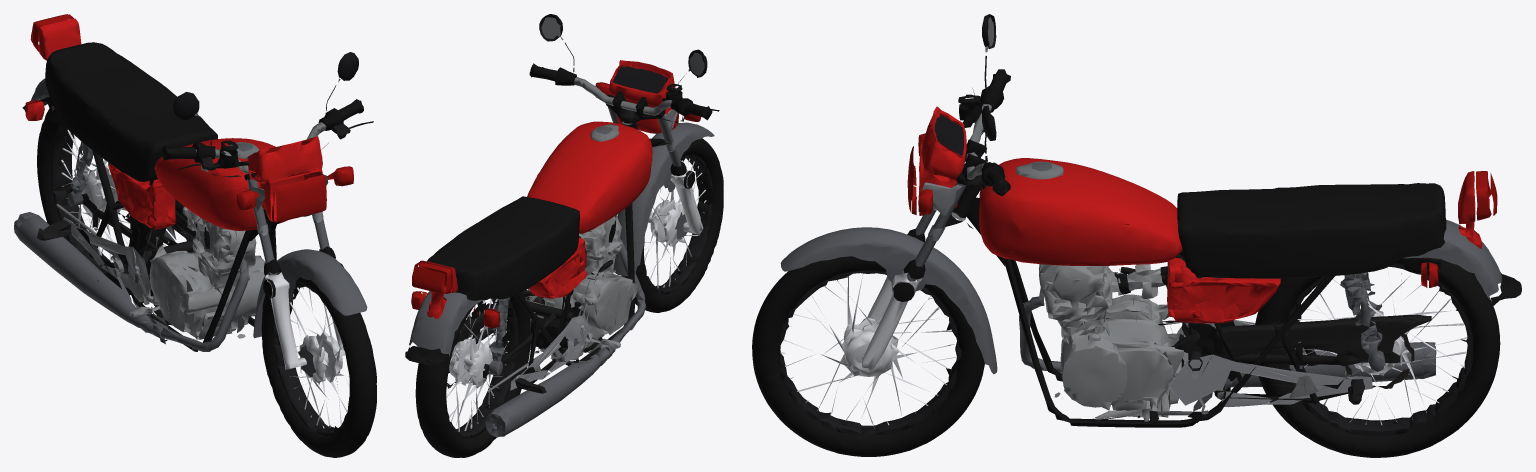
The model's file is HondaClassique.obj.
3 renders of one model, left to right at view 1: azimuth 30°, elevation 25°; view 2: azimuth 150°, elevation 25°; view 3: azimuth 270°, elevation 25°, orthographic. The views are drawn at different scales.
Visible parts, largest first — view 1: Caisse_Corps_jok, Caisse_Corps_mesin, Caisse_Corps_abuxabu, RoueAV_Corps_ban, Caisse_Peinture_body, Direction_Corps_abuxabu, Caisse_Peinture_plastik, Caisse_Corps_rangka, Direction_Peinture_plastik, RoueAR_Corps_ban, RoueAV_Corps_chrome, RoueAR_Corps_velg (+18 smaller); view 2: Caisse_Corps_jok, Caisse_Peinture_body, Caisse_Corps_abuxabu, Caisse_Corps_mesin, RoueAR_Corps_ban, Direction_Corps_abuxabu, RoueAV_Corps_ban, Caisse_Corps_rangka, RoueAR_Corps_chrome, Caisse_Peinture_plastik, RoueAV_Corps_velg, Caisse_Corps_tutupxrantai (+14 smaller); view 3: Caisse_Corps_jok, Caisse_Peinture_body, Caisse_Corps_mesin, RoueAV_Corps_ban, RoueAR_Corps_ban, Direction_Corps_abuxabu, Caisse_Corps_abuxabu, Caisse_Corps_tutupxrantai, Caisse_Corps_rangka, Caisse_Peinture_plastik, Caisse_Corps_arms, RoueAV_Corps_chrome (+15 smaller).
Part boxes in pixels (x1,y1,x2,y2): Caisse_Corps_jok: [45, 42, 217, 306]; Caisse_Corps_mesin: [129, 218, 265, 339]; Caisse_Corps_abuxabu: [14, 78, 253, 351]; RoueAV_Corps_ban: [261, 277, 376, 457]; Caisse_Peinture_body: [154, 138, 287, 230]; Direction_Corps_abuxabu: [247, 179, 367, 377]; Caisse_Peinture_plastik: [28, 18, 175, 229]; Caisse_Corps_rangka: [76, 150, 276, 351]; Direction_Peinture_plastik: [247, 136, 322, 221]; RoueAR_Corps_ban: [37, 108, 163, 295]; RoueAV_Corps_chrome: [289, 287, 349, 428]; RoueAR_Corps_velg: [50, 122, 113, 275]; Caisse_Corps_jok: [427, 196, 594, 361]; Caisse_Peinture_body: [527, 121, 652, 233]; Caisse_Corps_abuxabu: [409, 126, 646, 437]; Caisse_Corps_mesin: [526, 214, 637, 351]; RoueAR_Corps_ban: [415, 292, 530, 457]; Direction_Corps_abuxabu: [608, 107, 714, 276]; RoueAV_Corps_ban: [621, 138, 723, 312]; Caisse_Corps_rangka: [448, 122, 637, 383]; RoueAR_Corps_chrome: [446, 299, 509, 431]; Caisse_Peinture_plastik: [413, 237, 586, 326]; RoueAV_Corps_velg: [644, 155, 712, 293]; Caisse_Corps_tutupxrantai: [454, 260, 612, 393]; Caisse_Corps_jok: [1137, 183, 1446, 422]; Caisse_Peinture_body: [979, 158, 1182, 265]; Caisse_Corps_mesin: [1039, 264, 1184, 421]; RoueAV_Corps_ban: [752, 256, 984, 456]; RoueAR_Corps_ban: [1255, 257, 1500, 457]; Direction_Corps_abuxabu: [780, 182, 997, 374]; Caisse_Corps_abuxabu: [1019, 162, 1501, 418]; Caisse_Corps_tutupxrantai: [1120, 267, 1431, 404]; Caisse_Corps_rangka: [953, 183, 1348, 427]; Caisse_Peinture_plastik: [1167, 171, 1482, 323]; Caisse_Corps_arms: [1170, 320, 1372, 407]; RoueAV_Corps_chrome: [780, 273, 956, 428].
Size of the model in its own units: 0.676 by 1.11 by 1.97.
